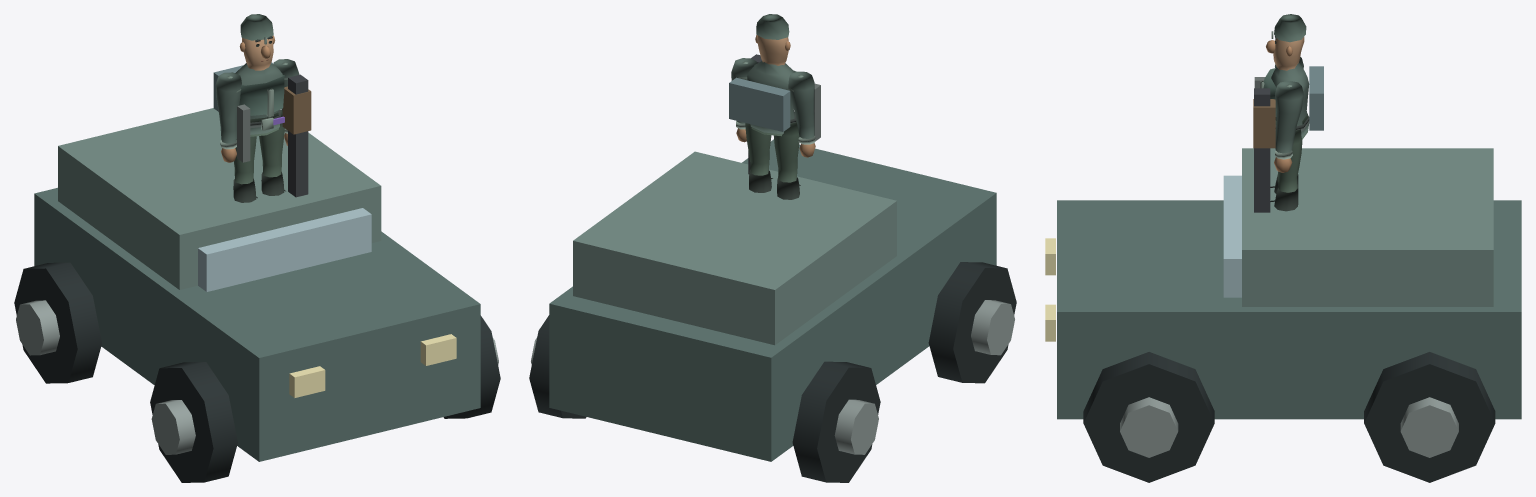
File: motorized_team2.glb
The picture shows the model from 3 angles, left to right: view 1: azimuth 30°, elevation 25°; view 2: azimuth 150°, elevation 25°; view 3: azimuth 270°, elevation 25°; orthographic projection. The views are drawn at different scales.
Parts seen in each view (by area): view 1: part_11, part_12, part_13, part_15, part_17, part_0, part_16, part_18, part_2, part_21, part_5, part_1 (+6 smaller); view 2: part_11, part_12, part_15, part_17, part_10, part_16, part_18, part_2, part_19, part_7, part_1, part_8 (+2 smaller); view 3: part_11, part_12, part_21, part_19, part_22, part_20, part_13, part_4, part_1, part_5, part_0, part_8 (+2 smaller).
Part boxes in pixels (box(x1,y1,x2,y2)): part_11: box(34, 187, 480, 461); part_12: box(58, 108, 381, 289); part_13: box(198, 208, 371, 291); part_15: box(14, 262, 101, 383); part_17: box(150, 362, 237, 482); part_0: box(235, 63, 284, 136); part_16: box(16, 300, 59, 355); part_18: box(151, 400, 195, 454); part_2: box(215, 72, 241, 162); part_21: box(443, 315, 500, 418); part_5: box(288, 74, 308, 197); part_1: box(239, 14, 275, 70); part_11: box(549, 139, 996, 461); part_12: box(573, 151, 896, 345); part_15: box(792, 361, 880, 482); part_17: box(928, 262, 1016, 383); part_10: box(729, 77, 790, 131); part_16: box(834, 399, 878, 454); part_18: box(971, 300, 1014, 355); part_2: box(788, 71, 815, 157); part_19: box(529, 315, 586, 418); part_7: box(773, 120, 800, 199); part_1: box(755, 14, 790, 65); part_8: box(745, 123, 772, 192); part_11: box(1057, 200, 1521, 419); part_12: box(1242, 148, 1493, 306); part_21: box(1083, 352, 1214, 482); part_19: box(1364, 352, 1495, 482); part_22: box(1120, 397, 1178, 457); part_20: box(1400, 397, 1458, 457); part_13: box(1223, 175, 1241, 297); part_4: box(1274, 81, 1303, 172); part_1: box(1266, 14, 1306, 70); part_5: box(1254, 88, 1270, 212); part_0: box(1260, 63, 1309, 139); part_8: box(1270, 129, 1302, 211).
Size of the model in its own units: 2.09 by 2.37 by 2.62.
